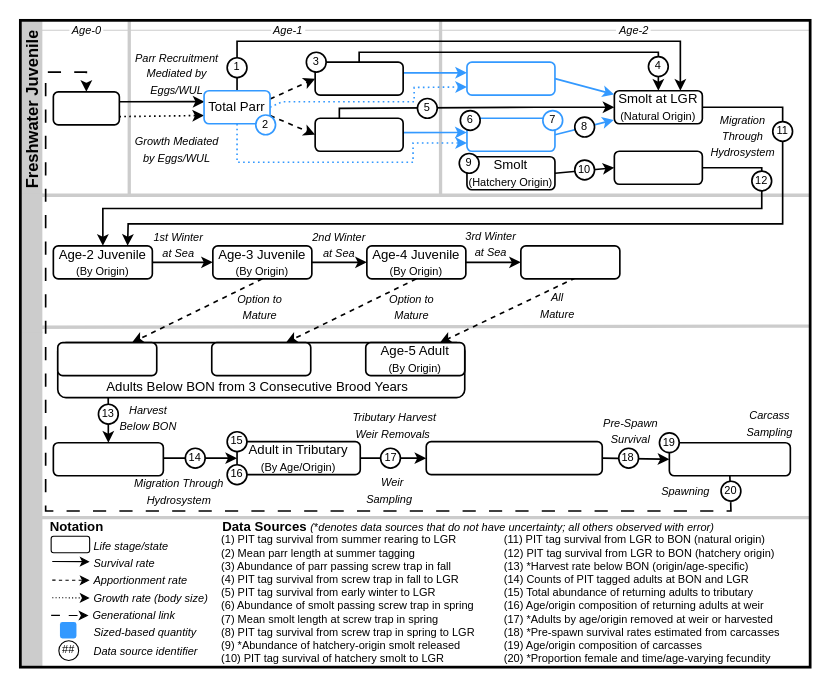
The diagram is 831 pixels wide and 688 high, and some of its shapes have lost their labels. Each missing label, with the box of its shape:
Adult Above BON (By Age/Origin): (52, 441, 164, 476)
Adult on Spawning Grounds (By Age/Origin): (425, 440, 603, 475)
Adult Spawner (By Age/Origin): (668, 441, 791, 476)
Age-3 Adult (By Origin): (56, 341, 157, 376)
Age-4 Adult (By Origin): (210, 341, 311, 376)
Age-5 Juvenile (By Origin): (520, 245, 620, 279)
Freshwater Adult: (20, 331, 42, 518)
Legend: (20, 517, 42, 667)
Ocean Juvenile: (20, 193, 42, 332)
Parr (Fall Migrants): (314, 61, 403, 95)
Parr (Spring Migrants): (314, 117, 403, 152)
Smolt (Fall Migrants): (466, 61, 555, 95)
Smolt (Spring Migrants): (466, 117, 555, 152)
Smolt at LGR (Hatchery Origin): (613, 150, 703, 185)
Total Eggs: (52, 91, 120, 125)
